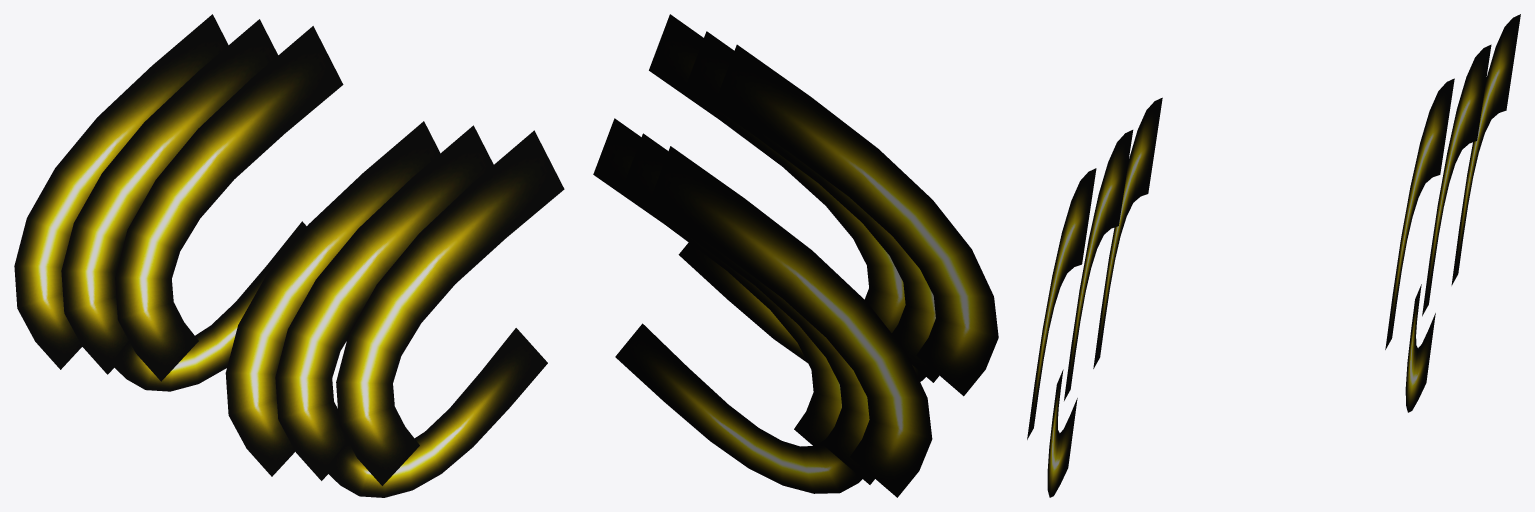
Rendered from effect_dapeng_1.FBX.
3 views of the same model, side by side, from view 1: azimuth 30°, elevation 25°; view 2: azimuth 150°, elevation 25°; view 3: azimuth 270°, elevation 25° (orthographic). The views are drawn at different scales.
Visible parts, largest first — view 1: effect_dapeng_2, effect_dapeng_1; view 2: effect_dapeng_1, effect_dapeng_2; view 3: effect_dapeng_1, effect_dapeng_2.
Boxes of the visible parts, x1,y1,x2,y2 form: effect_dapeng_2: (225,121,564,497); effect_dapeng_1: (14,14,343,391); effect_dapeng_1: (593,118,932,497); effect_dapeng_2: (649,14,998,396); effect_dapeng_1: (1385,14,1520,412); effect_dapeng_2: (1027,97,1162,497).
Bounding box in the file's own units: 60.06 × 50.17 × 48.44.
Materials: 1 (1 with a texture image).
